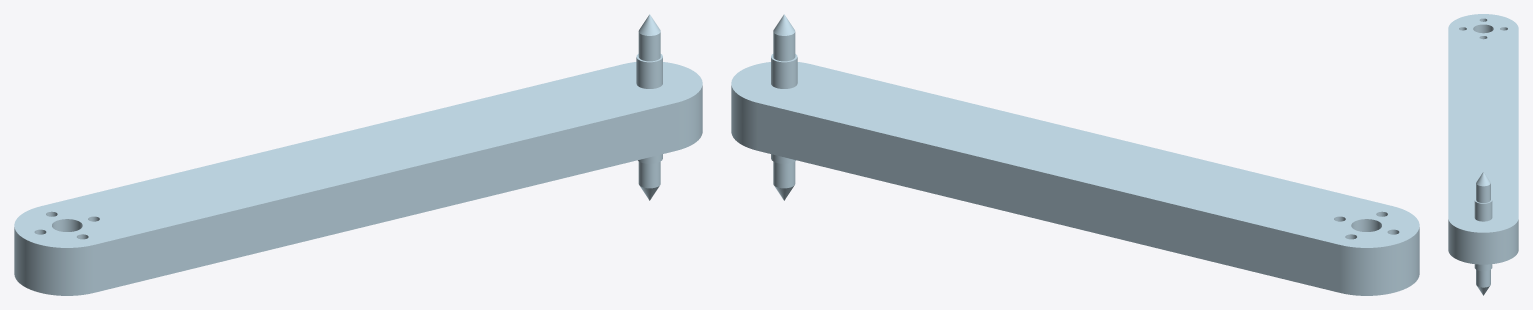
3 renders of one model, left to right at view 1: azimuth 30°, elevation 25°; view 2: azimuth 150°, elevation 25°; view 3: azimuth 270°, elevation 25°, orthographic. The views are drawn at different scales.
Visible parts, largest first — view 1: mesh45, mesh47, mesh48, mesh46, mesh44, mesh42, mesh58; view 2: mesh45, mesh49, mesh48, mesh46, mesh44, mesh42, mesh58; view 3: mesh45, mesh46, mesh44, mesh42, mesh58, mesh54, mesh41, mesh56.
Boxes of the visible parts, x1,y1,x2,y2 form: mesh45: (14, 62, 702, 247); mesh47: (93, 103, 676, 292); mesh48: (14, 227, 93, 295); mesh46: (676, 85, 702, 150); mesh44: (636, 57, 662, 88); mesh42: (638, 32, 660, 61); mesh58: (638, 161, 660, 188); mesh45: (731, 62, 1419, 247); mesh49: (757, 103, 1340, 292); mesh48: (1340, 227, 1419, 295); mesh46: (731, 85, 757, 150); mesh44: (771, 57, 797, 88); mesh42: (773, 32, 795, 61); mesh58: (773, 161, 795, 188); mesh45: (1448, 14, 1518, 232); mesh46: (1448, 219, 1518, 264); mesh44: (1474, 201, 1492, 221); mesh42: (1476, 183, 1490, 202); mesh58: (1476, 270, 1490, 287); mesh54: (1473, 24, 1493, 33); mesh41: (1476, 172, 1490, 186); mesh56: (1474, 264, 1492, 271).
Size of the model in its own units: 0.1764 by 0.0468 by 0.024.
